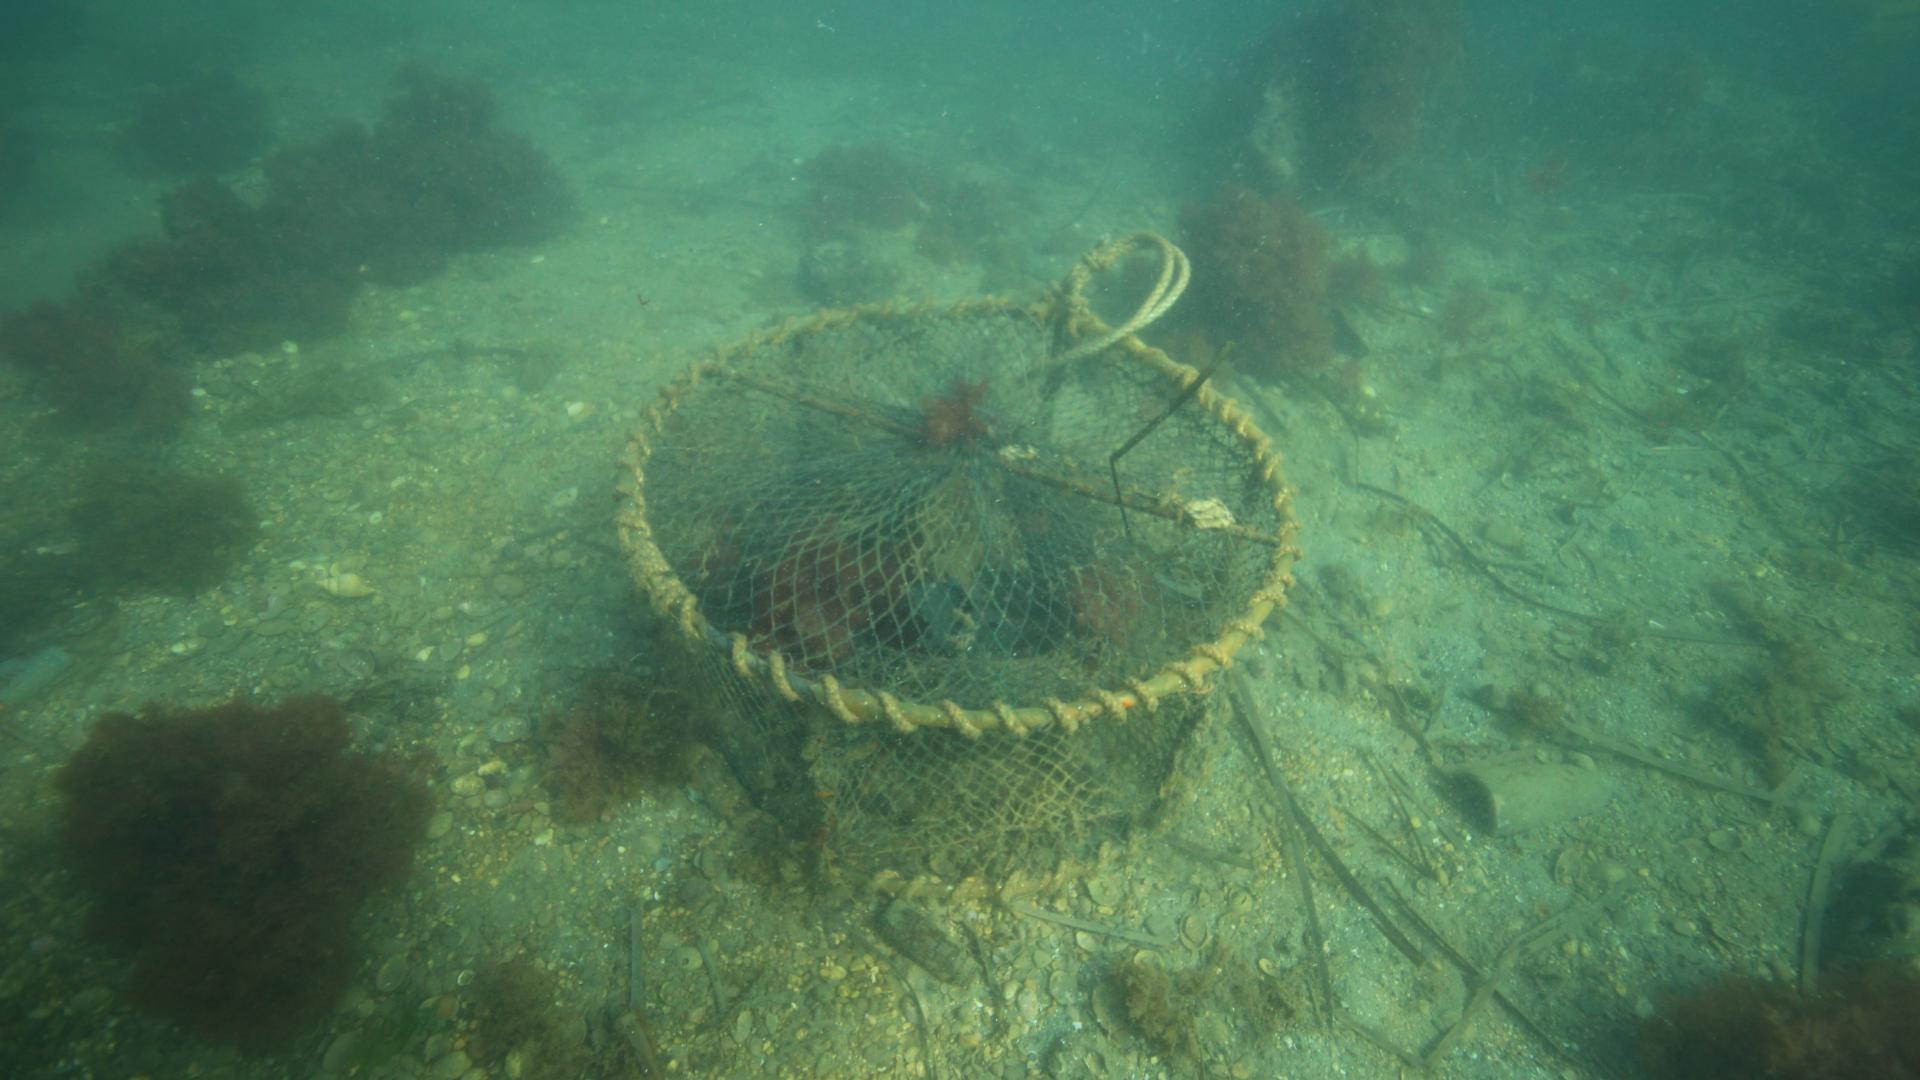bundle of ropes: (1040, 227, 1189, 364)
circular fish trap: (609, 294, 1302, 902)
